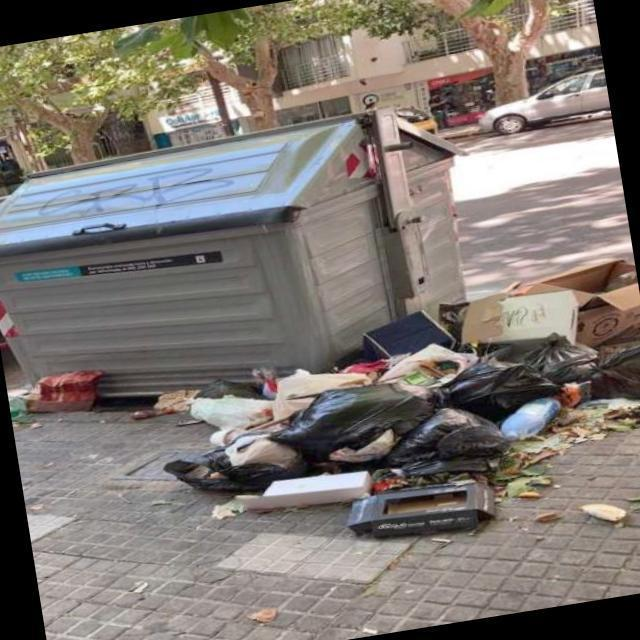garbage: (131, 251, 640, 576), (5, 364, 116, 432)
